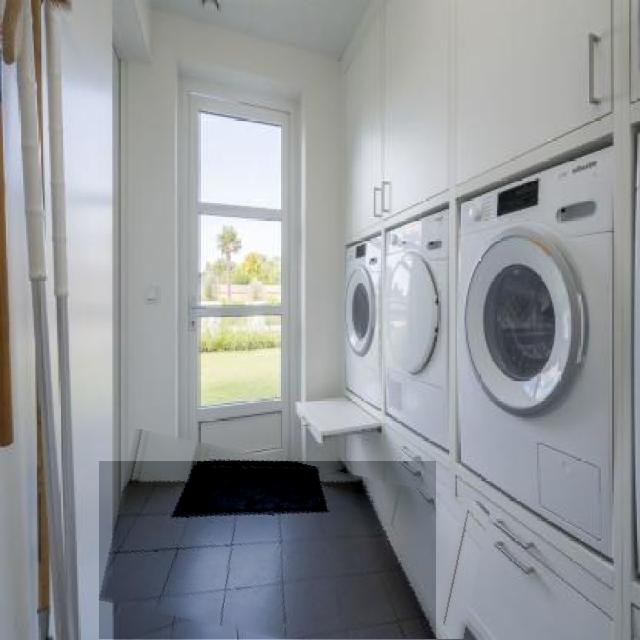floor: (99, 461, 436, 640)
